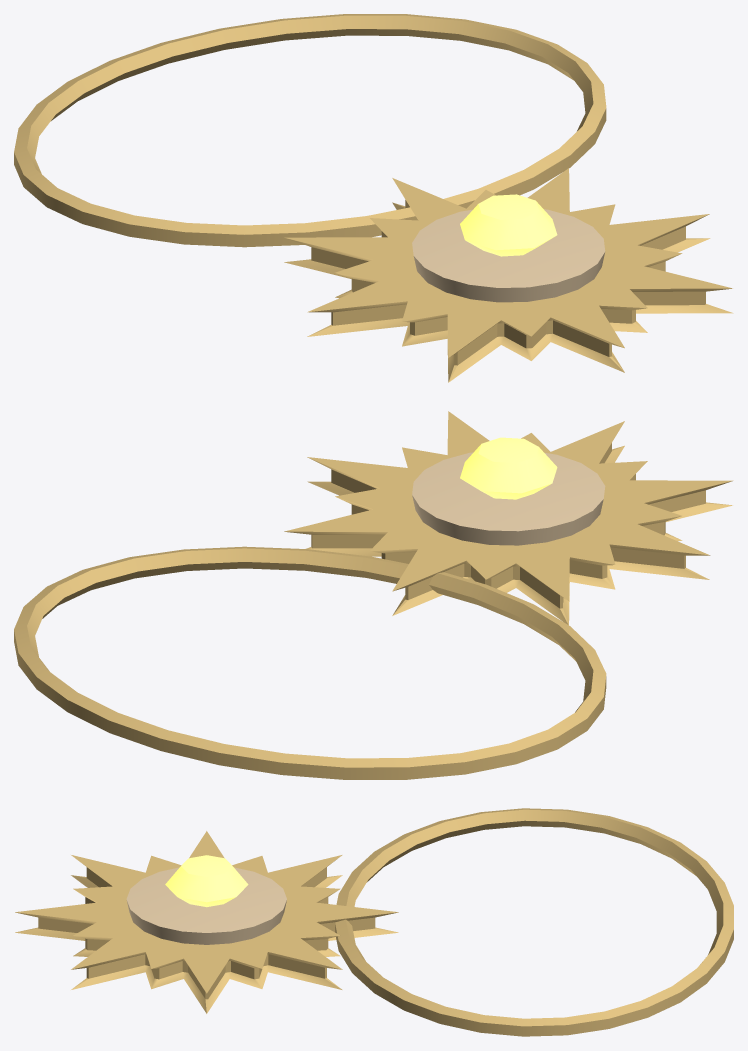
Rendered from tc_sunward_reliquary.glb.
The picture shows the model from 3 angles, top to bottom: view 1: azimuth 30°, elevation 25°; view 2: azimuth 150°, elevation 25°; view 3: azimuth 270°, elevation 25°; orthographic projection. The views are drawn at different scales.
Visible parts, largest first — view 1: tc_sunward_reliquary; view 2: tc_sunward_reliquary; view 3: tc_sunward_reliquary.
Boxes of the visible parts, x1=… form: tc_sunward_reliquary: x1=14, y1=14, x2=733, y2=382; tc_sunward_reliquary: x1=14, y1=411, x2=733, y2=779; tc_sunward_reliquary: x1=15, y1=808, x2=733, y2=1036.
Bounding box in the file's own units: 0.0803 × 0.0123 × 0.112.
